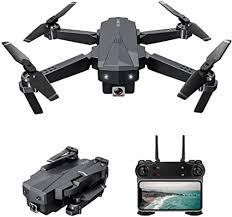drone: (0, 0, 232, 114)
